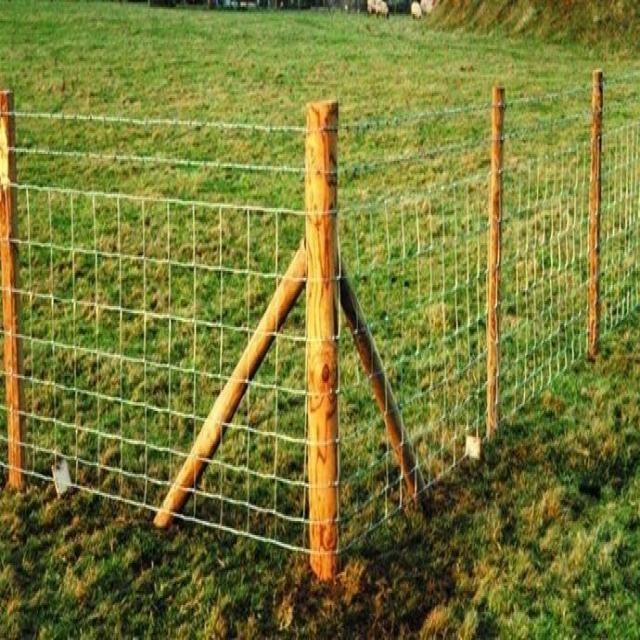fence: (0, 70, 639, 562)
